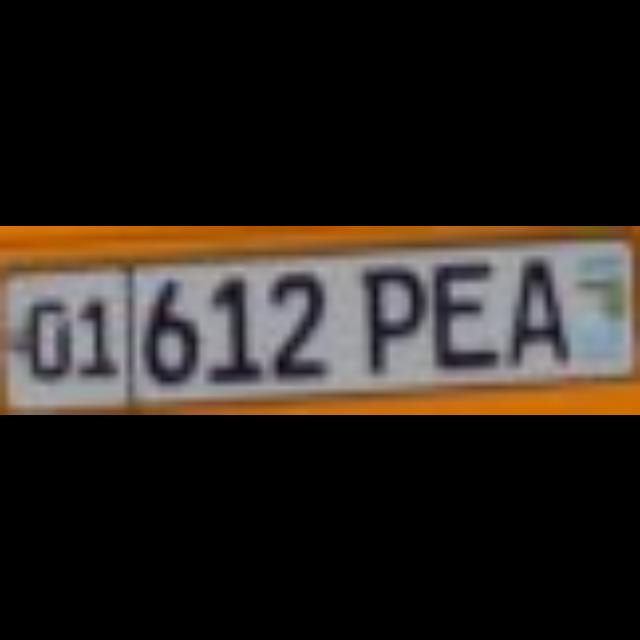0: (23, 288, 63, 368)
1: (198, 264, 252, 368), (71, 288, 111, 368)
2: (260, 256, 324, 368)
6: (134, 264, 190, 376)
A: (498, 248, 560, 359)
E: (426, 248, 489, 359)
P: (356, 256, 418, 368)
